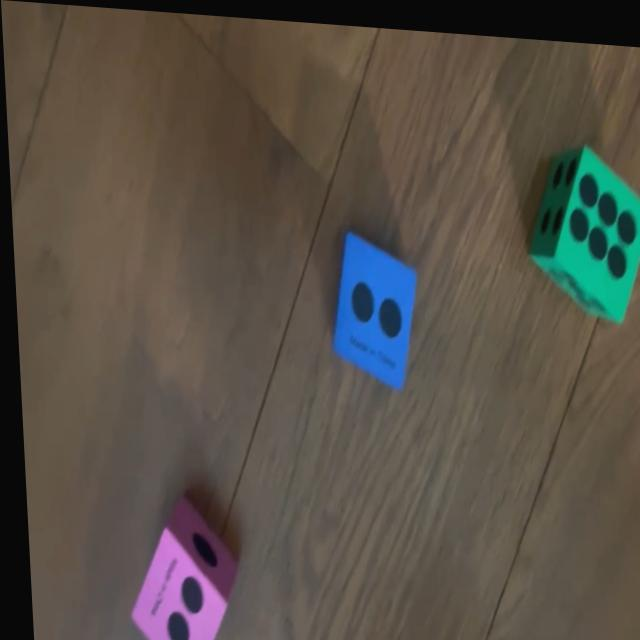blue_block: (324, 227, 416, 384)
